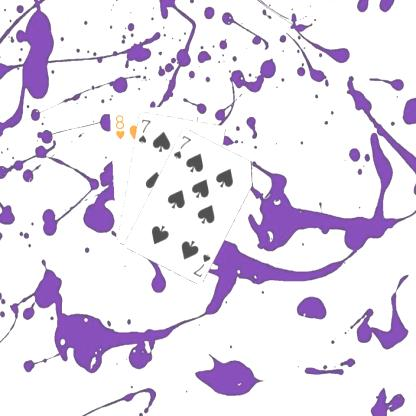7S: (170, 132, 192, 160), (190, 251, 212, 278), (135, 116, 152, 145)
8H: (112, 112, 126, 140)
